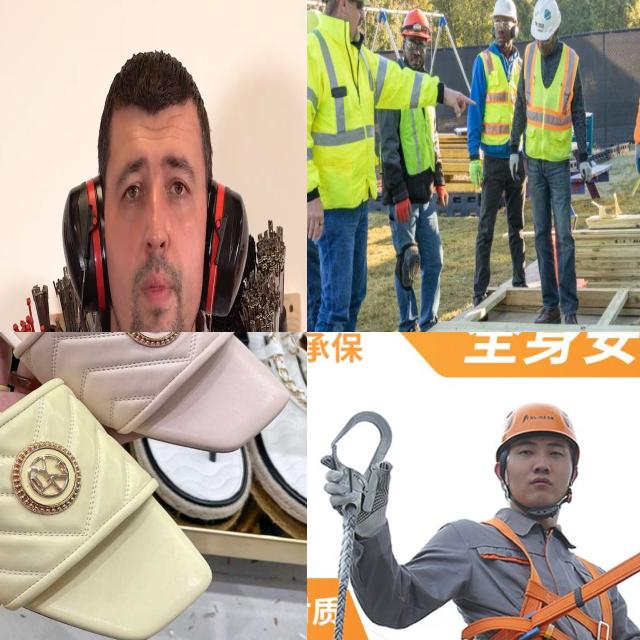Ear-protection: (60, 32, 253, 332)
Harness: (462, 509, 626, 640), (321, 402, 398, 529)
No_Glasses: (107, 138, 196, 236), (512, 442, 571, 462)
Sandals: (0, 332, 223, 640), (0, 332, 291, 460)
face_nomask: (338, 0, 368, 43), (402, 36, 427, 76), (494, 14, 512, 52)
glasses: (491, 16, 515, 34), (352, 0, 367, 16)
hand_glove: (467, 157, 485, 194), (393, 194, 412, 229), (434, 182, 451, 214), (578, 159, 594, 186), (507, 154, 521, 182), (630, 139, 640, 174)
hand_noglove: (442, 80, 478, 122), (307, 176, 324, 252)
head_helmet: (529, 0, 562, 41), (400, 4, 432, 38), (491, 0, 518, 19)
person: (307, 0, 389, 332), (516, 0, 593, 323), (384, 6, 454, 332), (465, 0, 527, 311)
vest: (307, 14, 382, 201), (523, 38, 577, 164), (482, 52, 525, 156)
